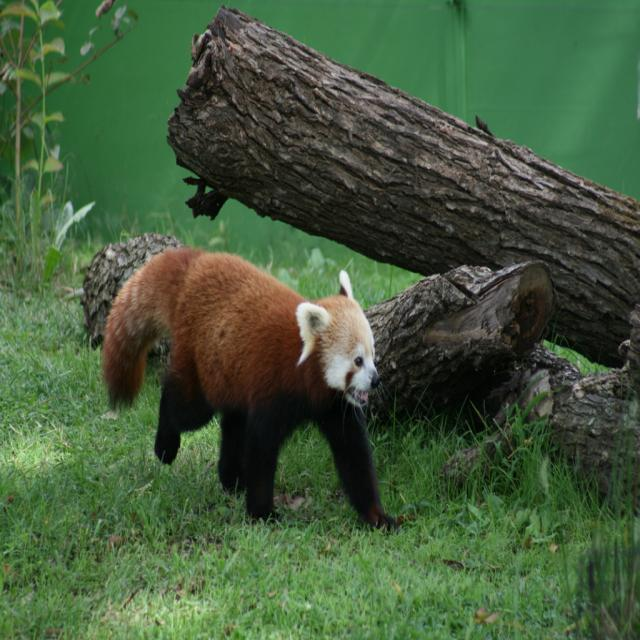Bear: (100, 244, 420, 534)
